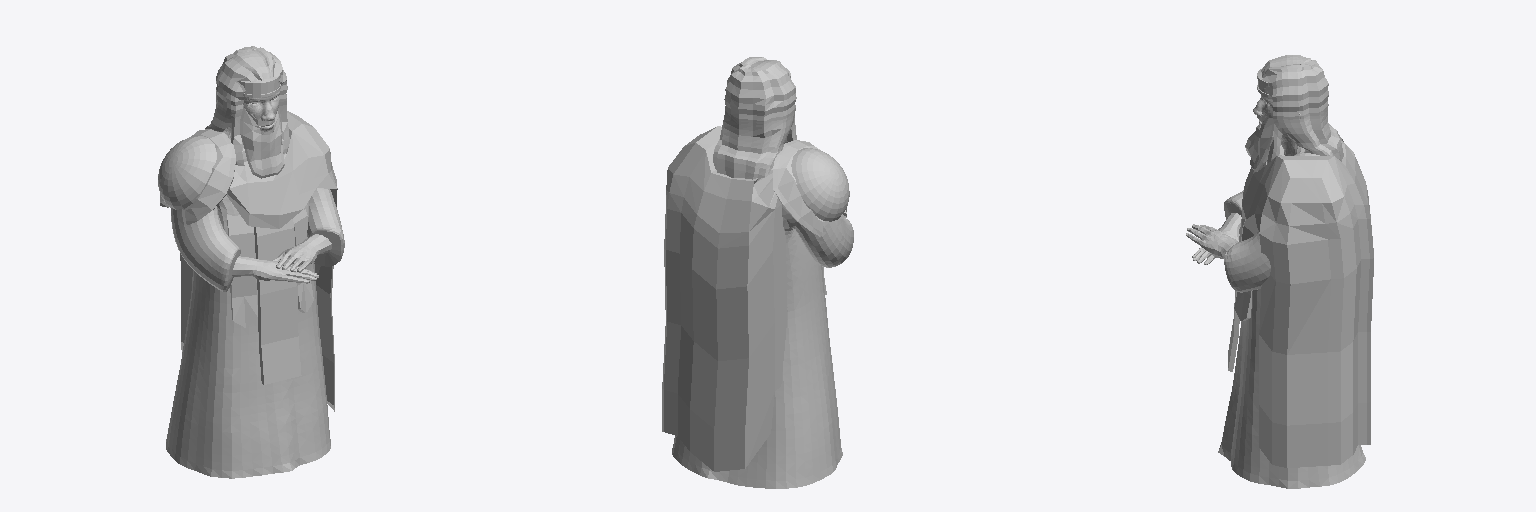
Rendered from BallaUV.obj.
3 views of the same model, side by side, from view 1: azimuth 30°, elevation 25°; view 2: azimuth 150°, elevation 25°; view 3: azimuth 270°, elevation 25° (orthographic).
Parts seen in each view (by area): view 1: polySurface32; view 2: polySurface32; view 3: polySurface32.
Part boxes in pixels (bbox=[...]): polySurface32: bbox=[158, 46, 344, 478]; polySurface32: bbox=[662, 57, 853, 488]; polySurface32: bbox=[1186, 55, 1373, 488].
Bounding box in the file's own units: 0.9931 × 2.21 × 0.9598.